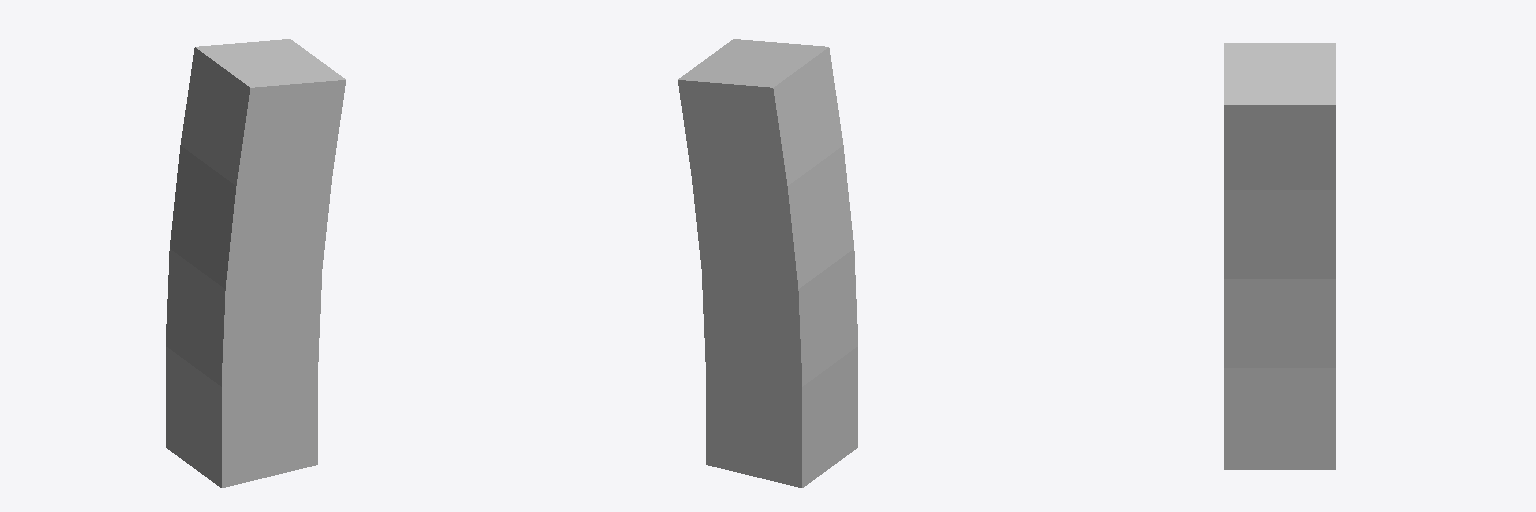
Rendered from Animation_000004.obj.
3 views of the same model, side by side, from view 1: azimuth 30°, elevation 25°; view 2: azimuth 150°, elevation 25°; view 3: azimuth 270°, elevation 25° (orthographic).
Visible parts, largest first — view 1: Cube; view 2: Cube; view 3: Cube.
Boxes of the visible parts, x1=… form: Cube: x1=166, y1=39, x2=345, y2=487; Cube: x1=678, y1=39, x2=857, y2=487; Cube: x1=1224, y1=43, x2=1335, y2=469.
Bounding box in the file's own units: 1.72 × 5.17 × 1.33.